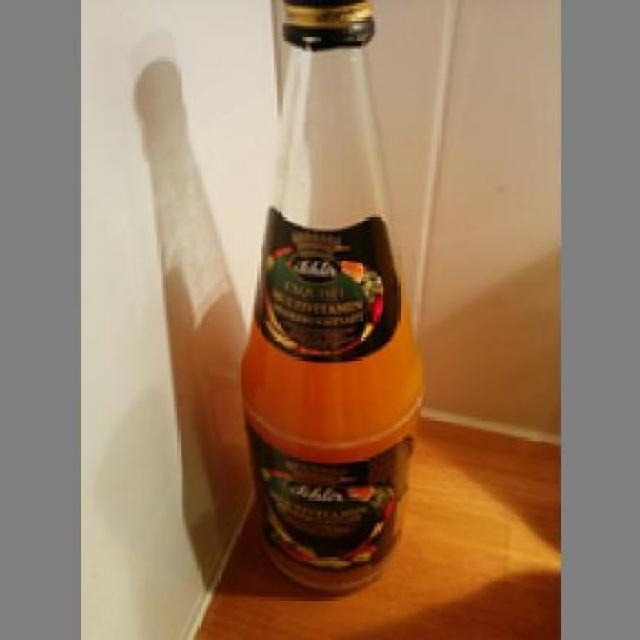Juice: (233, 0, 426, 592)
